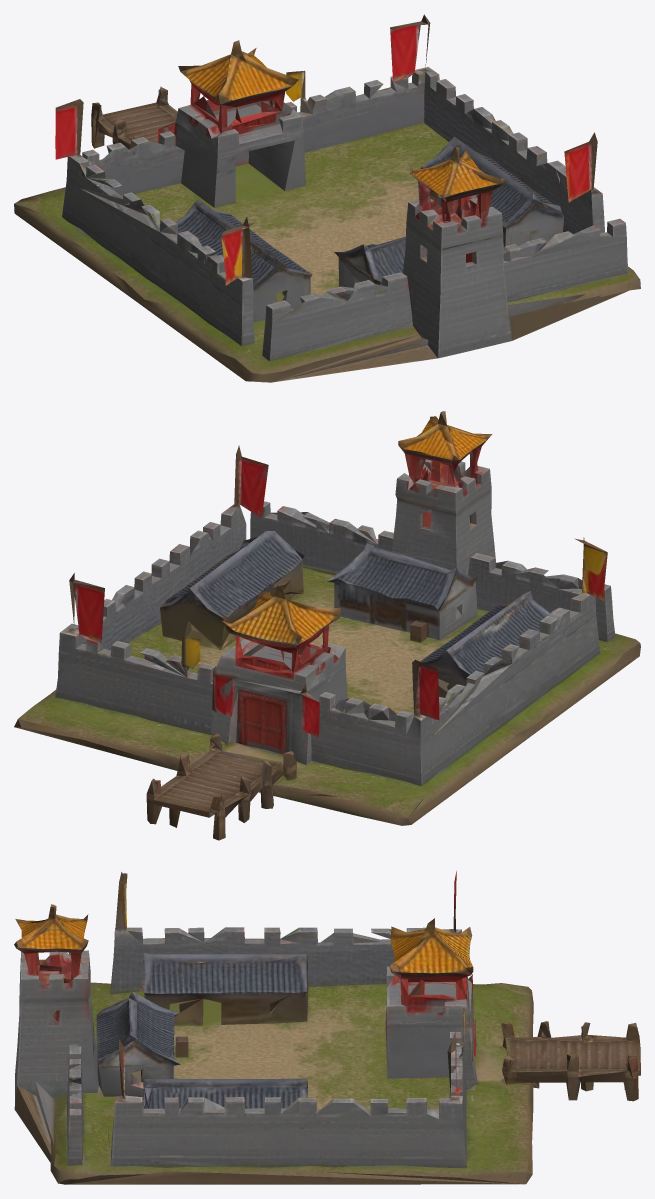
Rendered from camp_ming_2.glb.
3 views of the same model, one above another, from view 1: azimuth 30°, elevation 25°; view 2: azimuth 150°, elevation 25°; view 3: azimuth 270°, elevation 25° (orthographic).
Visible parts, largest first — view 1: camp_ming_2; view 2: camp_ming_2; view 3: camp_ming_2.
Boxes of the visible parts, x1,y1,x2,y2 form: camp_ming_2: (14, 14, 640, 382); camp_ming_2: (14, 411, 640, 840); camp_ming_2: (14, 871, 640, 1184).
Size of the model in its own units: 0.7288 by 0.3443 by 1.
Materials: 1 (1 with a texture image).
